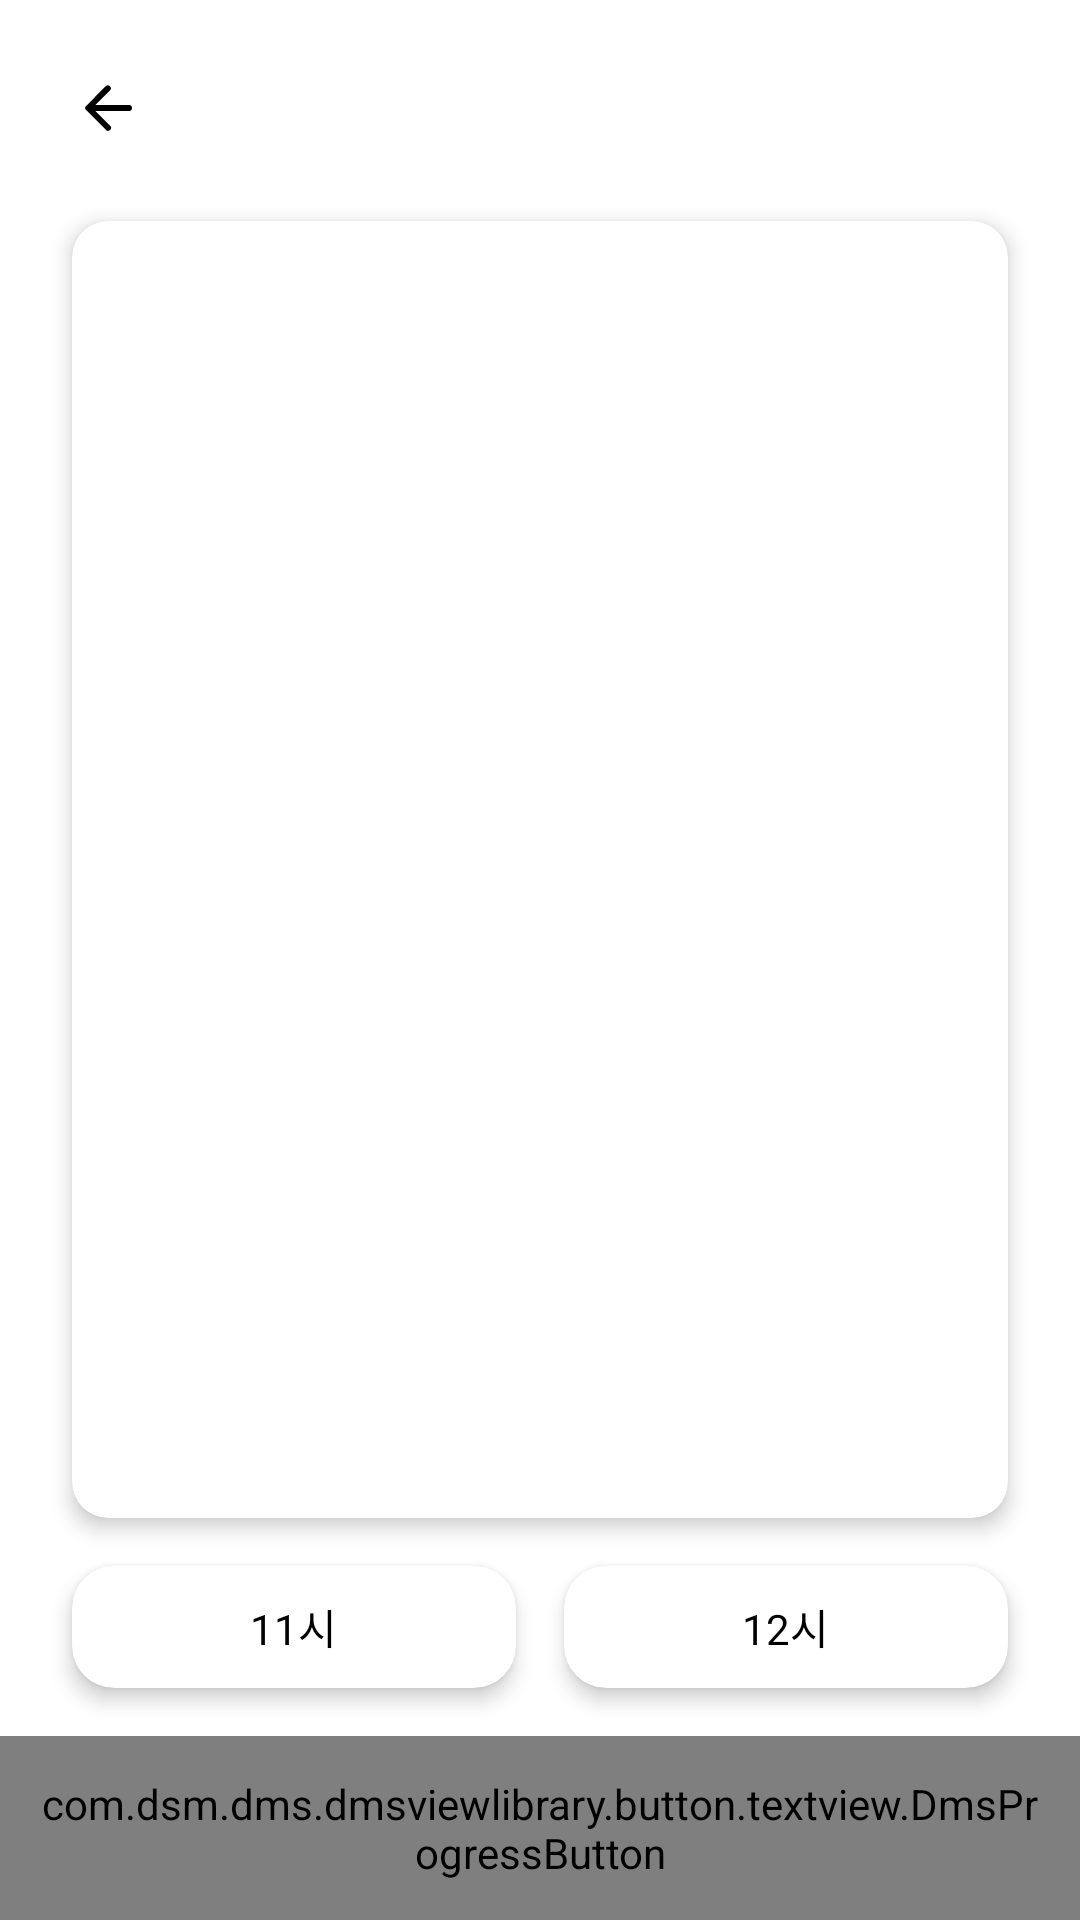

Where to tap for icons on this 1080w x 1920h app screen, as point (x, y):
back: point (108, 108)
